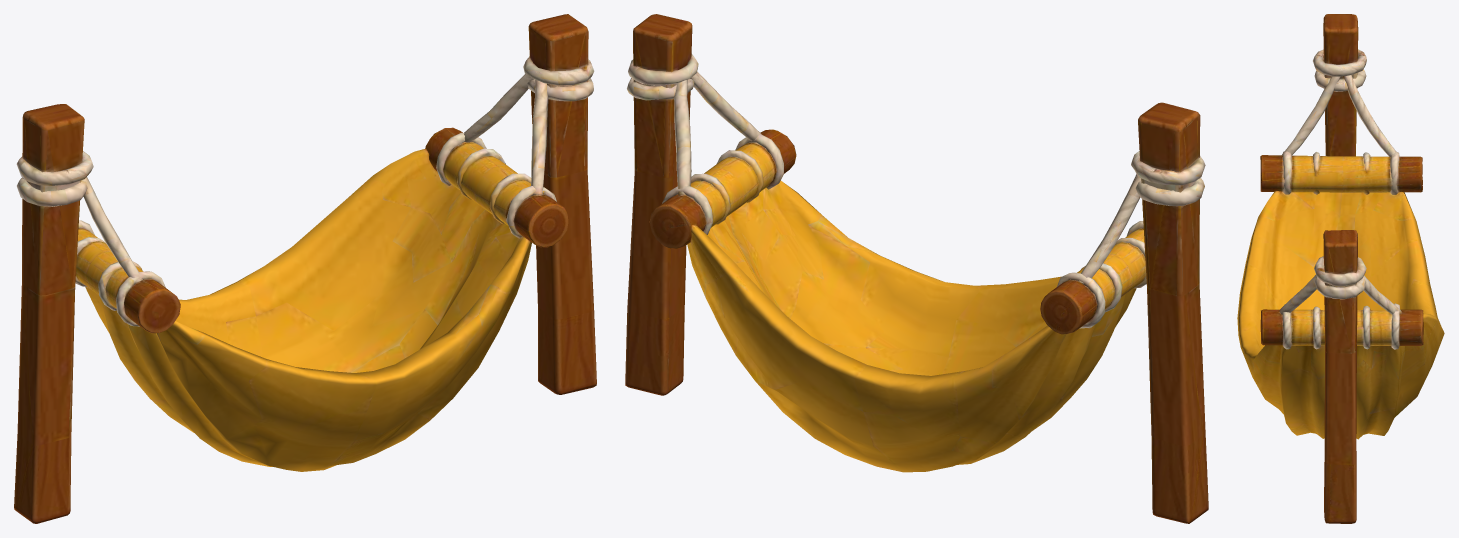
Rendered from hammock.glb.
3 views of the same model, side by side, from view 1: azimuth 30°, elevation 25°; view 2: azimuth 150°, elevation 25°; view 3: azimuth 270°, elevation 25° (orthographic). The views are drawn at different scales.
Size of the model in its own units: 1 by 0.686 by 0.4156.
1 material, 1 textured.
